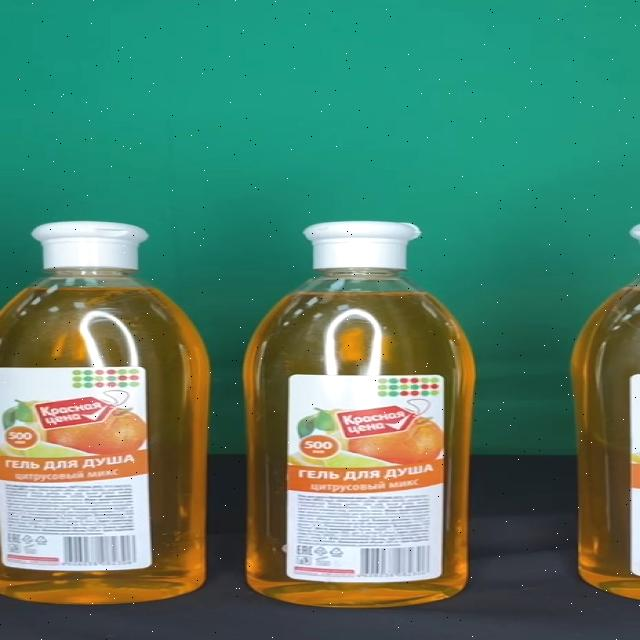Bottle: (242, 221, 477, 608), (0, 221, 209, 605)
Cap: (303, 221, 422, 270), (34, 221, 150, 269)
